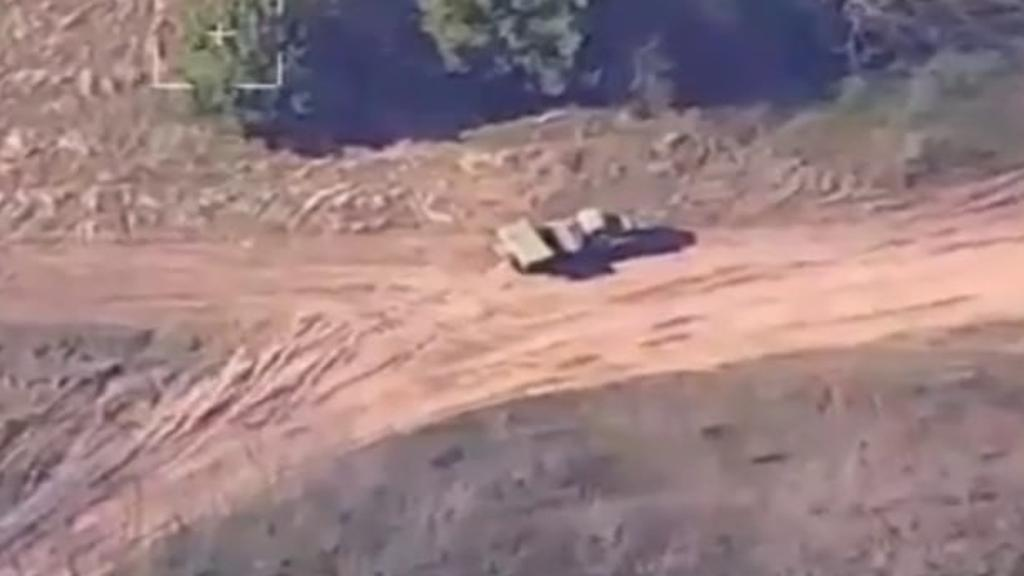MLRS: (489, 204, 640, 279)
